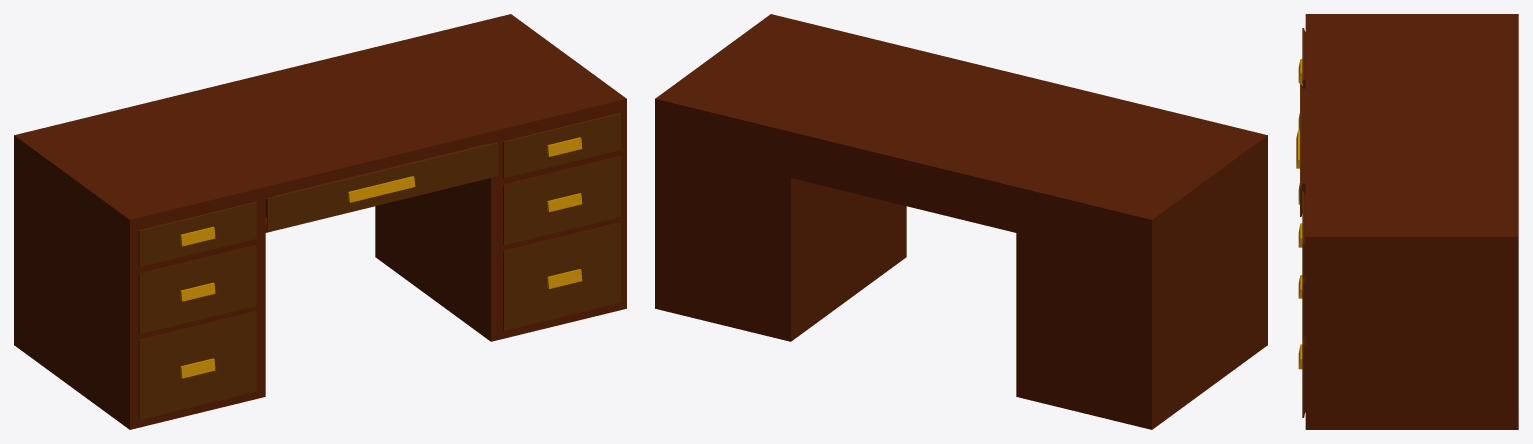
File: Desk.fbx
The picture shows the model from 3 angles, left to right: view 1: azimuth 30°, elevation 25°; view 2: azimuth 150°, elevation 25°; view 3: azimuth 270°, elevation 25°; orthographic projection. The views are drawn at different scales.
Parts seen in each view (by area): view 1: Desk; view 2: Desk; view 3: Desk.
Boxes of the visible parts, <box> form: Desk: <box>14,14,626,429</box>; Desk: <box>655,14,1267,429</box>; Desk: <box>1296,14,1518,429</box>.
Bounding box in the file's own units: 495 × 200 × 209.
